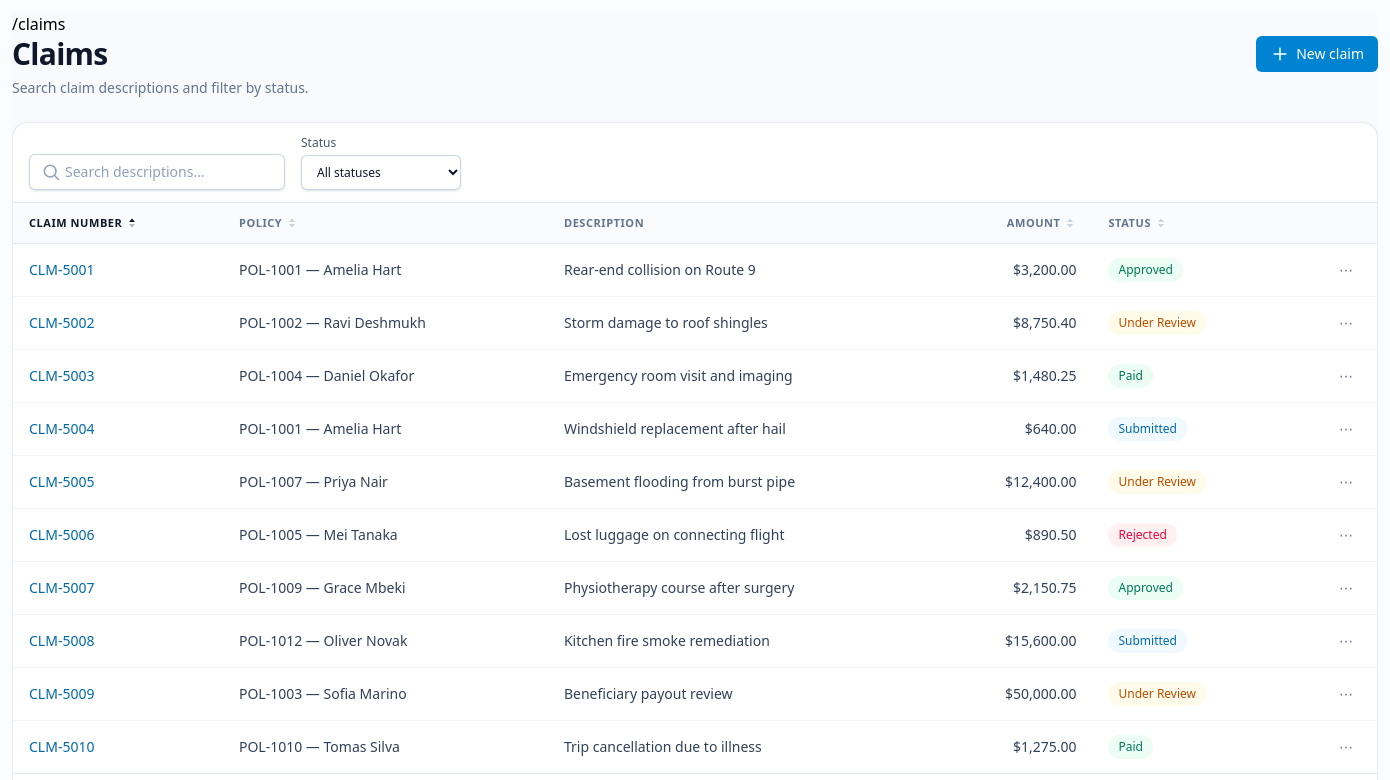
Scenario: ClaimListPage › reports an empty result set
Expected: the link "CLM-5001" is shown, 29,260 -> 94,279
Type "zzzzz" into the search field with placeholder "Search descriptions…" at (157, 172), box 29,154 -> 285,190
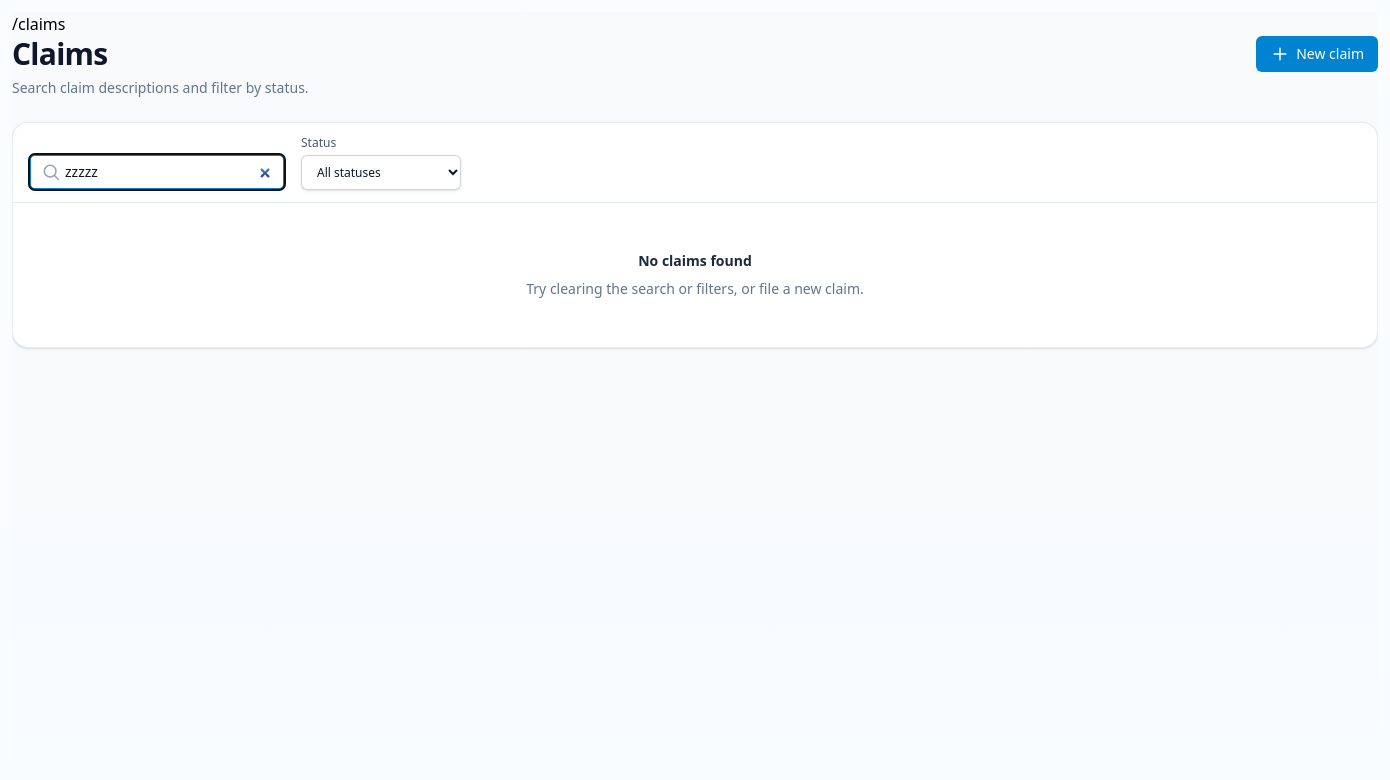
Result: the text "No claims found" is shown at 638,251 -> 752,271
